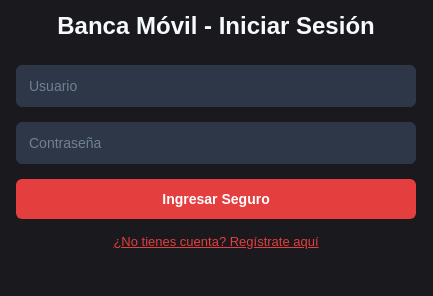
Scenario: Login › muestra el error del backend en caso de credenciales incorrectas
The image size is (433, 296).
Type "user" into the field with placeholder "Usuario" at [216, 86], box [16,65,416,107]
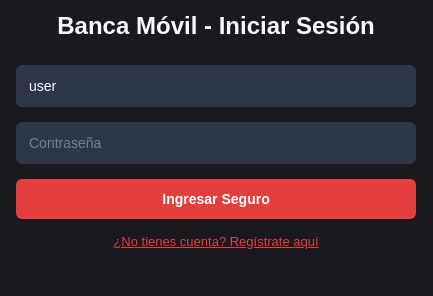
Type "wrong" into the password field with placeholder "Contraseña" at [216, 143], box [16,122,416,164]
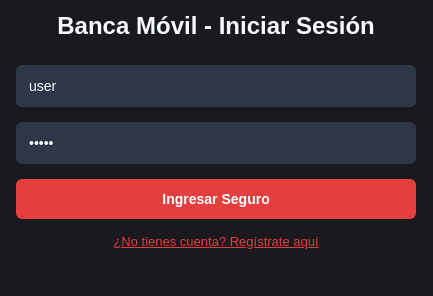
Click the button "Ingresar Seguro" at [216, 199], box [16,179,416,219]
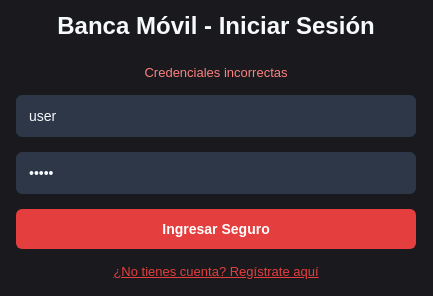
Check: the text "Credenciales incorrectas" is shown, box [144,65,288,80]
